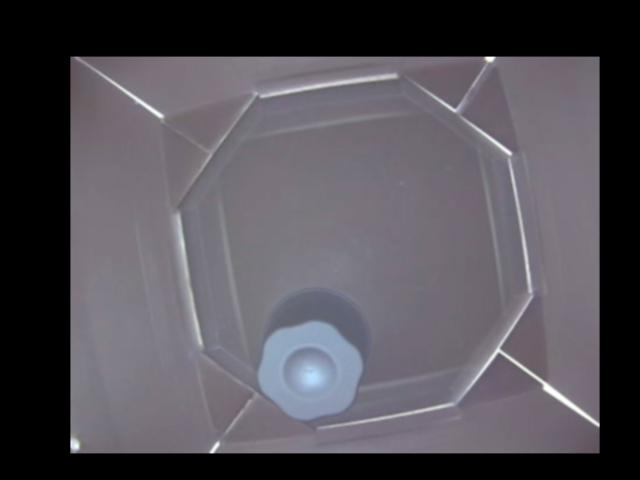Cup: (258, 287, 371, 423)
